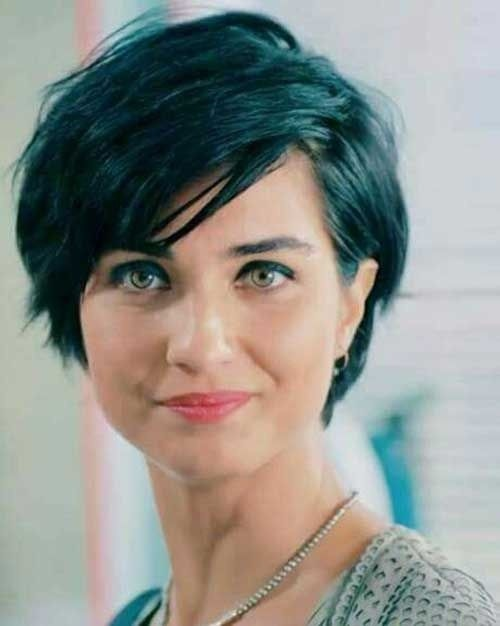face_no_mask: (67, 50, 384, 486)
